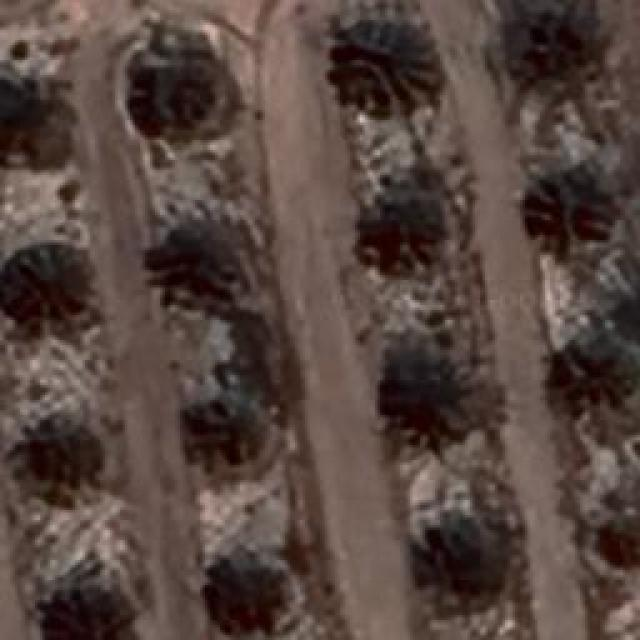PalmTree: (83, 70, 618, 538), (44, 65, 84, 605), (328, 15, 440, 110), (375, 354, 490, 436), (14, 421, 118, 504), (418, 518, 512, 606), (177, 388, 275, 472), (529, 159, 619, 249), (132, 52, 235, 130), (0, 65, 70, 175), (374, 190, 472, 268), (165, 215, 253, 300), (507, 18, 595, 102), (198, 546, 286, 624), (564, 325, 638, 410), (2, 262, 86, 326)
